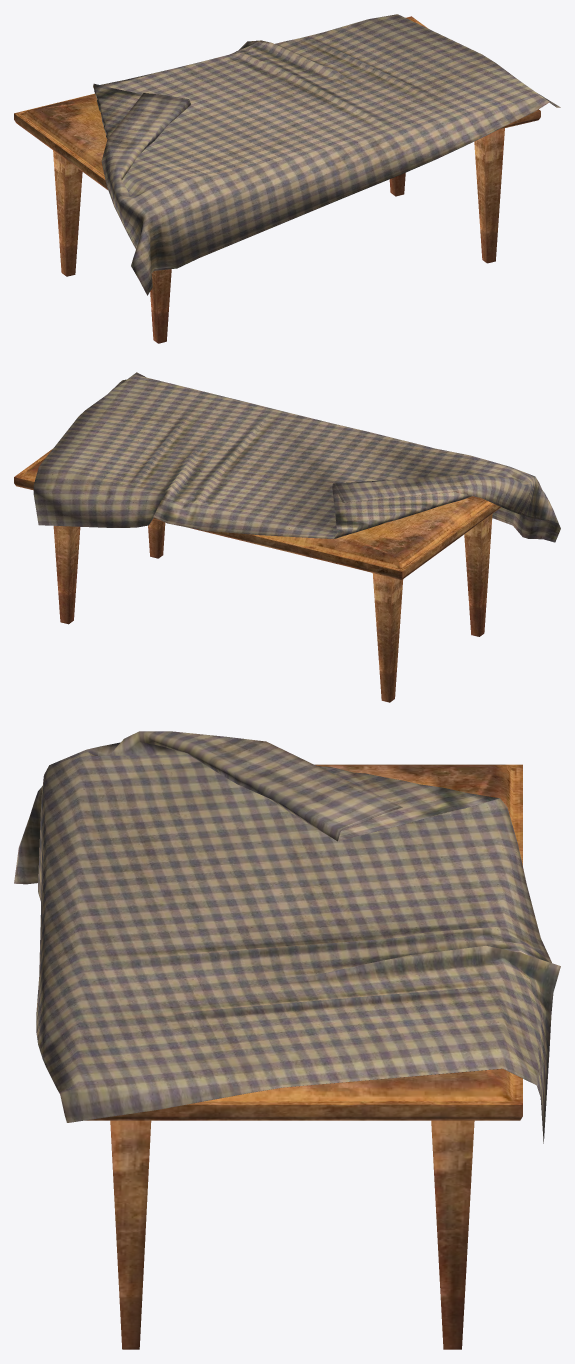
The model's file is dining_table.glb.
3 views of the same model, one above another, from view 1: azimuth 30°, elevation 25°; view 2: azimuth 150°, elevation 25°; view 3: azimuth 270°, elevation 25° (orthographic). The views are drawn at different scales.
Visible parts, largest first — view 1: dining_table; view 2: dining_table; view 3: dining_table.
Part boxes in pixels (<box>): dining_table: <box>14,14,560,343</box>; dining_table: <box>14,372,560,702</box>; dining_table: <box>14,731,560,1349</box>.
Size of the model in its own units: 2.26 by 0.8769 by 1.39.
Materials: 1 (1 with a texture image).
